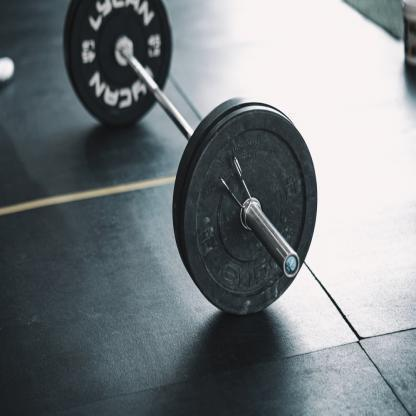barbell: (64, 0, 317, 314)
